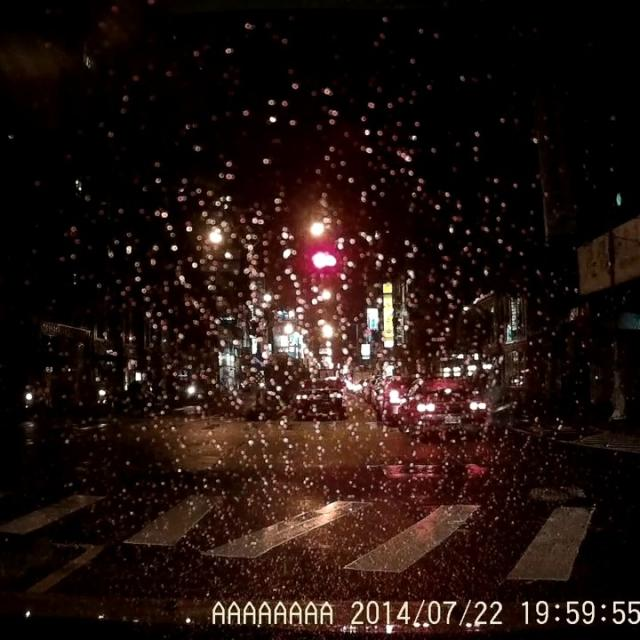Car: (393, 375, 488, 440), (292, 376, 347, 419), (376, 376, 416, 423)
